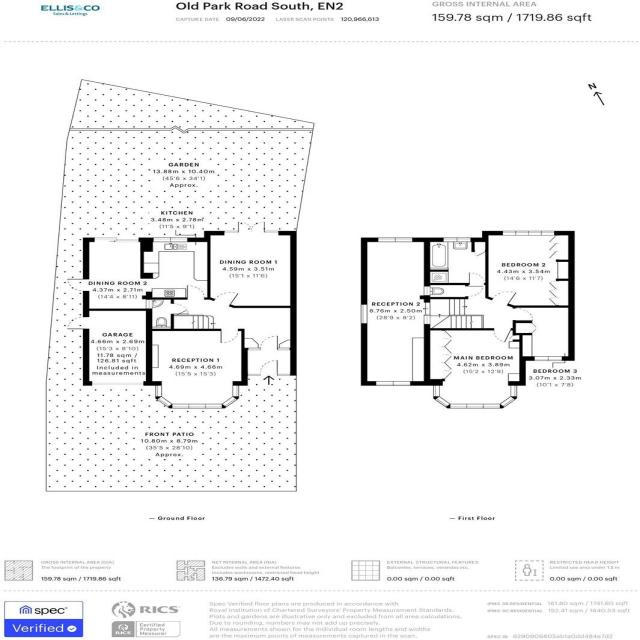DOOR: (491, 290, 518, 306), (213, 291, 239, 306), (258, 360, 278, 376), (219, 328, 239, 343), (493, 328, 512, 343), (186, 285, 206, 299), (513, 308, 534, 321)
ROOM: (66, 237, 211, 311), (360, 237, 431, 386), (424, 328, 526, 409), (146, 329, 248, 409), (208, 220, 297, 308), (482, 230, 575, 308), (512, 305, 575, 361)
WINDOW: (449, 403, 502, 409), (171, 403, 223, 409), (501, 231, 555, 236), (156, 396, 173, 408), (500, 396, 517, 408), (222, 396, 238, 408), (434, 396, 451, 407), (376, 237, 413, 242), (152, 237, 188, 242), (375, 381, 411, 386), (360, 303, 368, 325), (442, 237, 471, 243), (534, 356, 562, 361), (232, 384, 240, 397), (432, 385, 440, 398), (510, 385, 518, 398), (154, 385, 161, 397), (145, 299, 153, 309), (423, 286, 431, 296), (424, 315, 431, 325)
